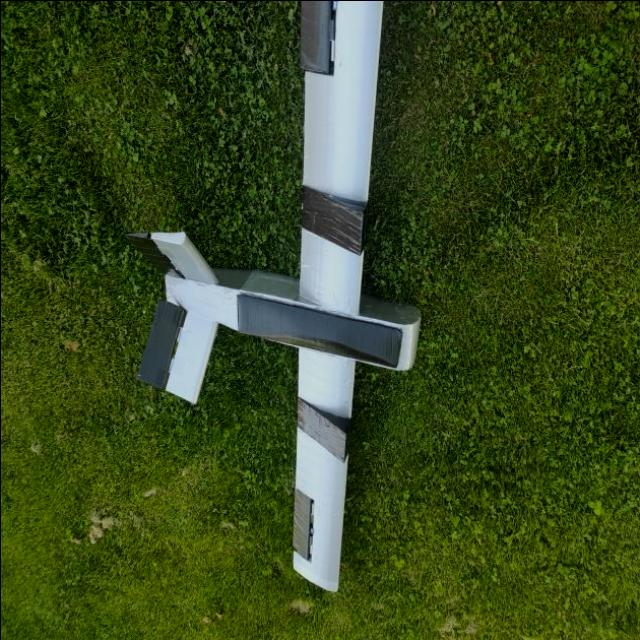plane: (124, 0, 423, 594)
